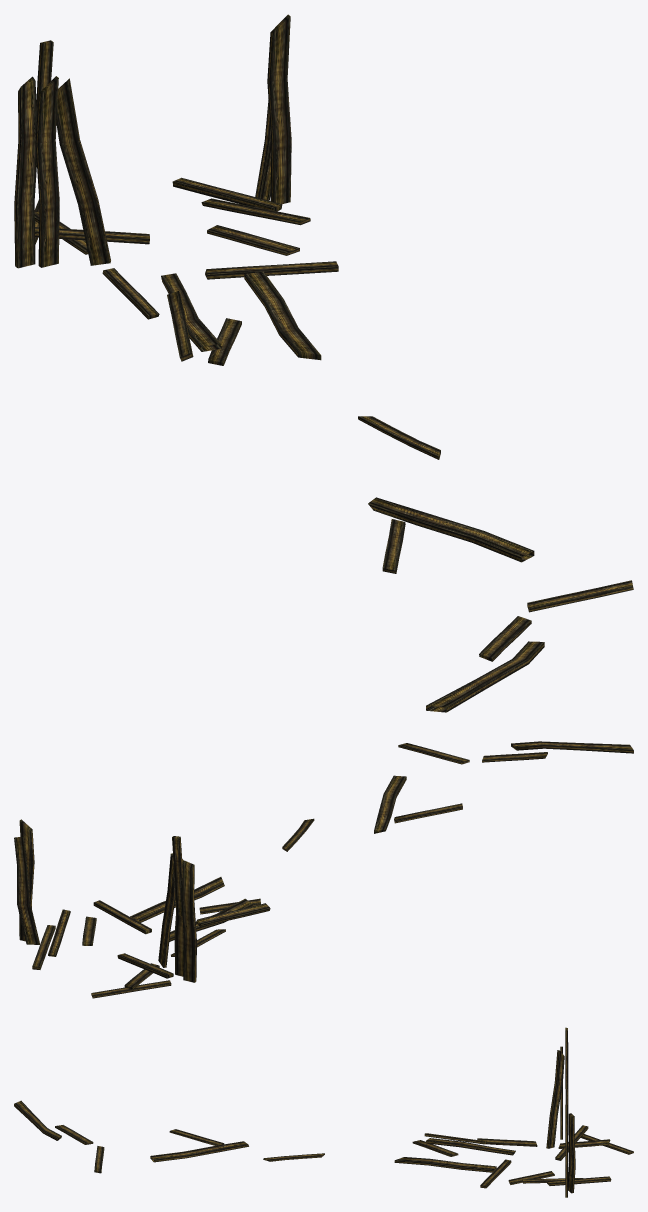
The model's file is CB_EXPLODING_WALL_ENDSTATE.fbx.
The picture shows the model from 3 angles, top to bottom: view 1: azimuth 30°, elevation 25°; view 2: azimuth 150°, elevation 25°; view 3: azimuth 270°, elevation 25°; orthographic projection. The views are drawn at different scales.
Parts seen in each view (by area): view 1: CB_EXPLODING_WALL_ENDSTATE; view 2: CB_EXPLODING_WALL_ENDSTATE; view 3: CB_EXPLODING_WALL_ENDSTATE.
Part boxes in pixels (left/top/right/bottom): CB_EXPLODING_WALL_ENDSTATE: left=14, top=14, right=633, bottom=712; CB_EXPLODING_WALL_ENDSTATE: left=14, top=741, right=633, bottom=998; CB_EXPLODING_WALL_ENDSTATE: left=14, top=1027, right=633, bottom=1197.
Size of the model in its own units: 161454 by 86368 by 420127.
Materials: 1 (1 with a texture image).
